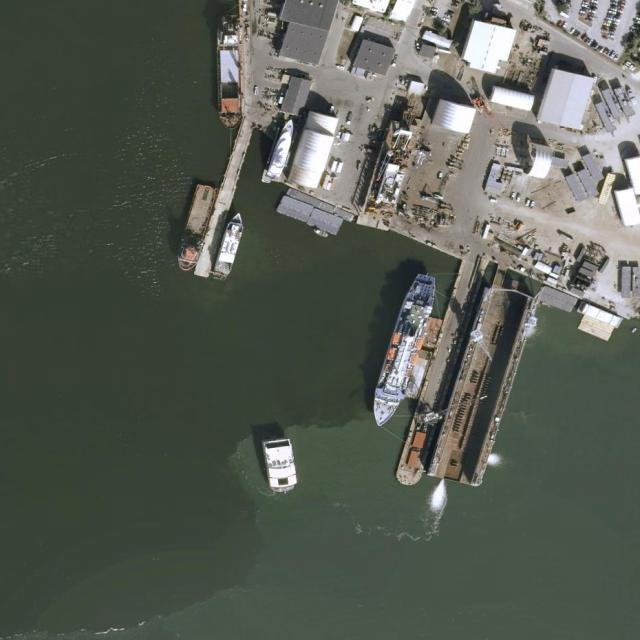Cargo: (361, 268, 445, 432), (171, 181, 220, 273), (214, 14, 243, 129)
Dock: (393, 257, 491, 491), (193, 117, 257, 282)
Other Ship: (262, 432, 300, 495)
Yacht: (211, 211, 246, 281), (266, 117, 298, 184)
